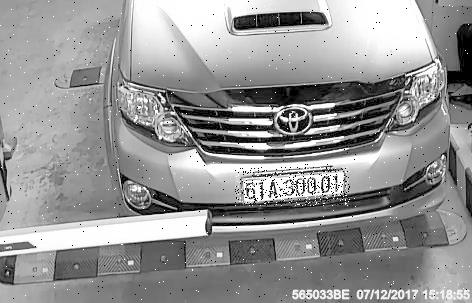License-plate: (237, 168, 352, 207)
